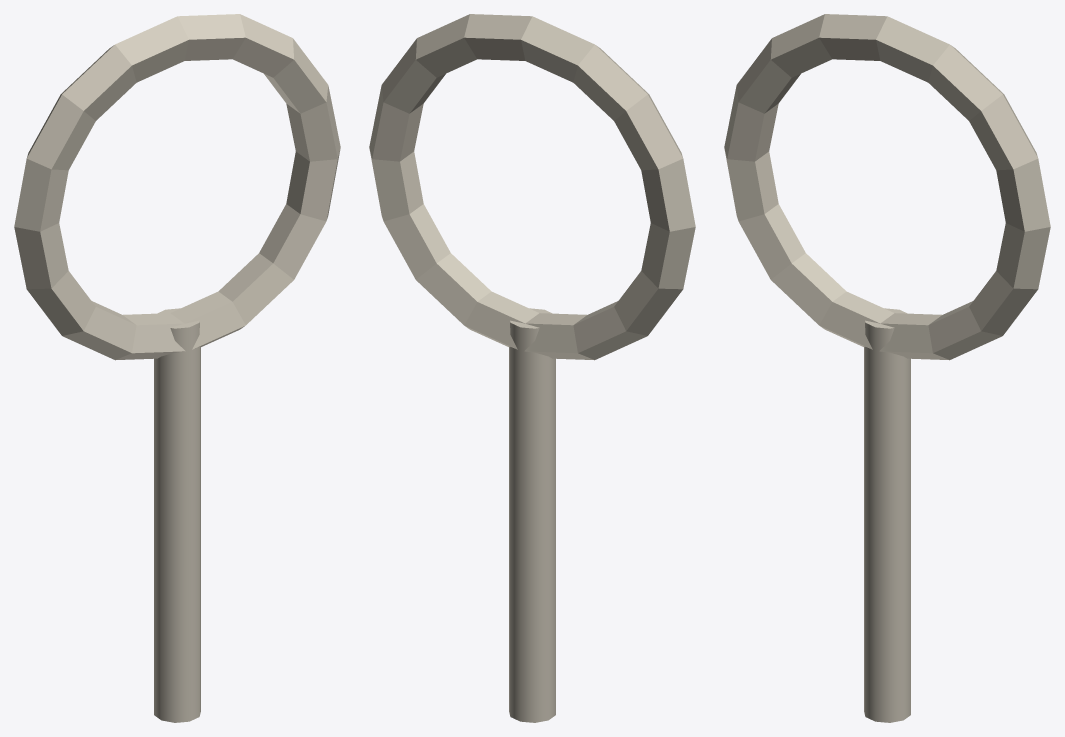
File: key.glb
3 views of the same model, side by side, from view 1: azimuth 30°, elevation 25°; view 2: azimuth 150°, elevation 25°; view 3: azimuth 330°, elevation 25° (orthographic).
Parts seen in each view (by area): view 1: key; view 2: key; view 3: key.
Boxes of the visible parts, x1,y1,x2,y2 form: key: (14,14,340,722); key: (369,14,695,722); key: (724,14,1050,722).
Bounding box in the file's own units: 0.1755 × 0.3578 × 0.0225.
